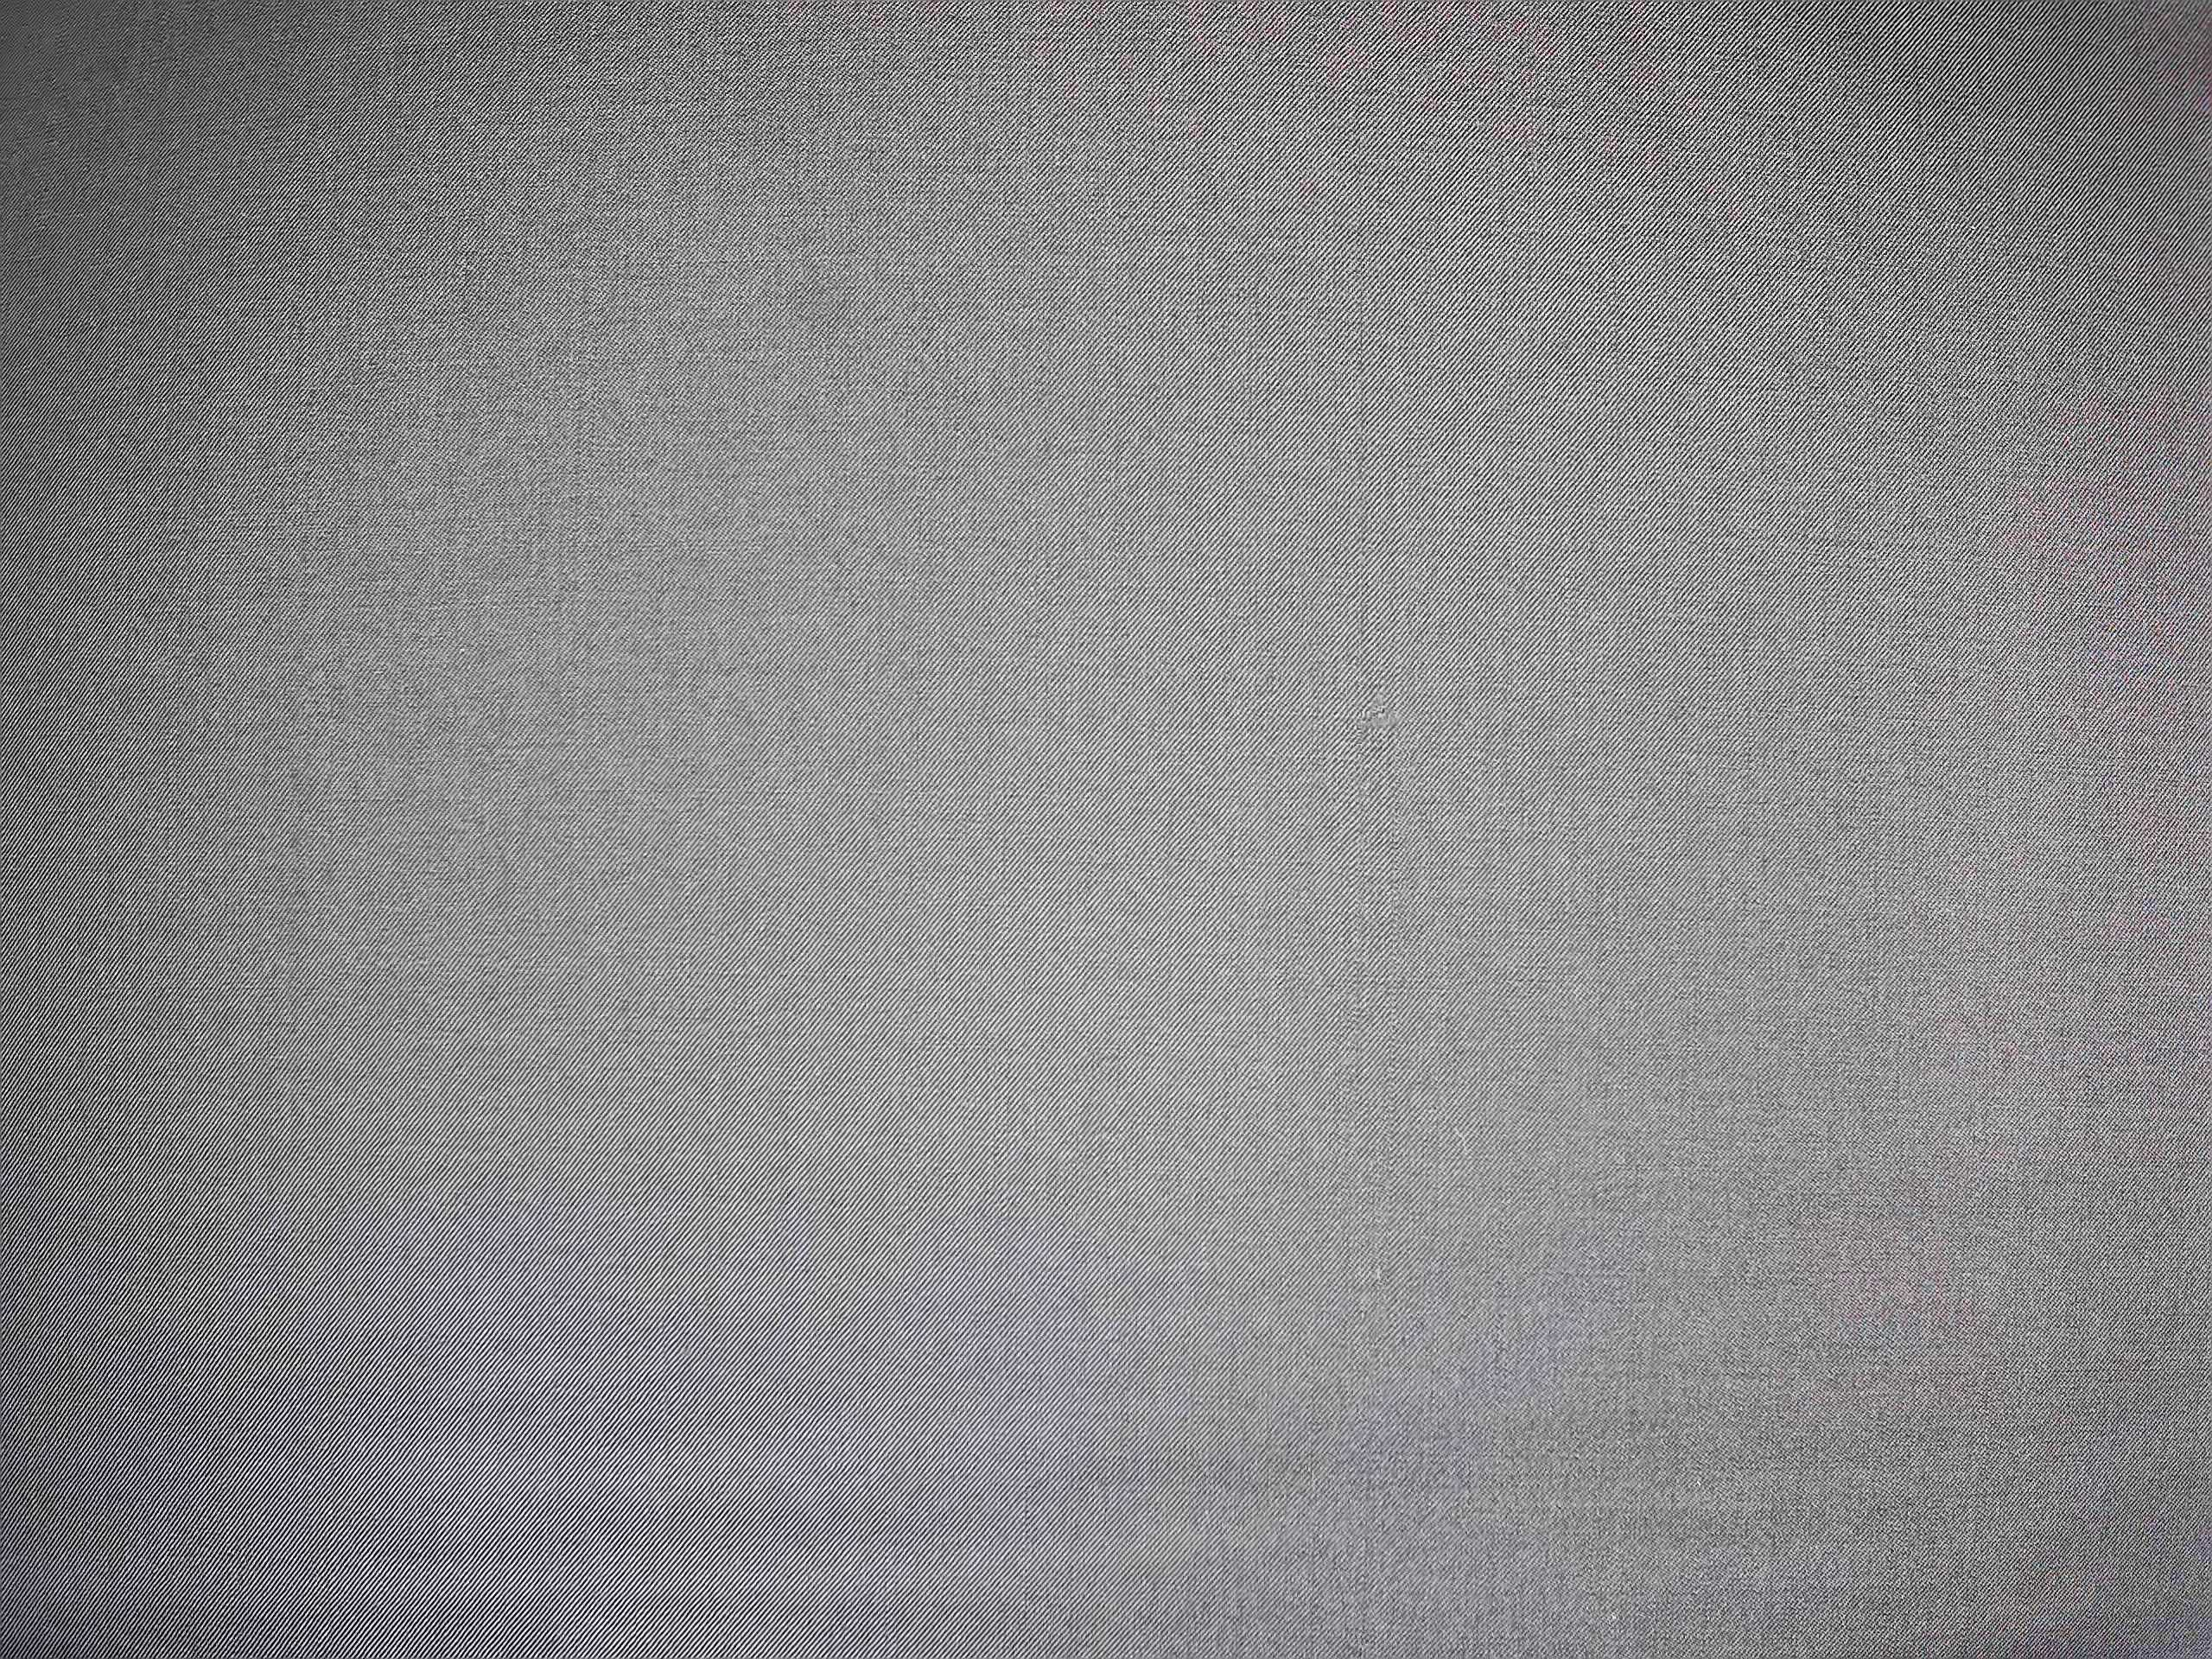hanging-warp: (1341, 683, 1414, 1317)
